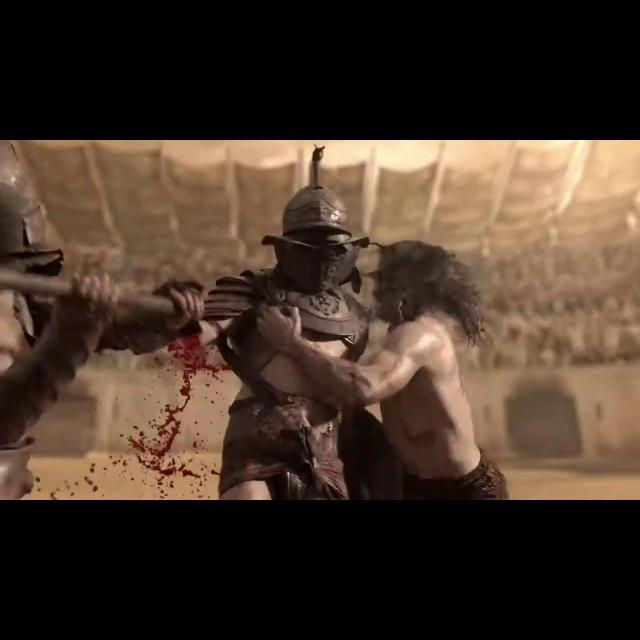blood: (25, 338, 226, 500)
